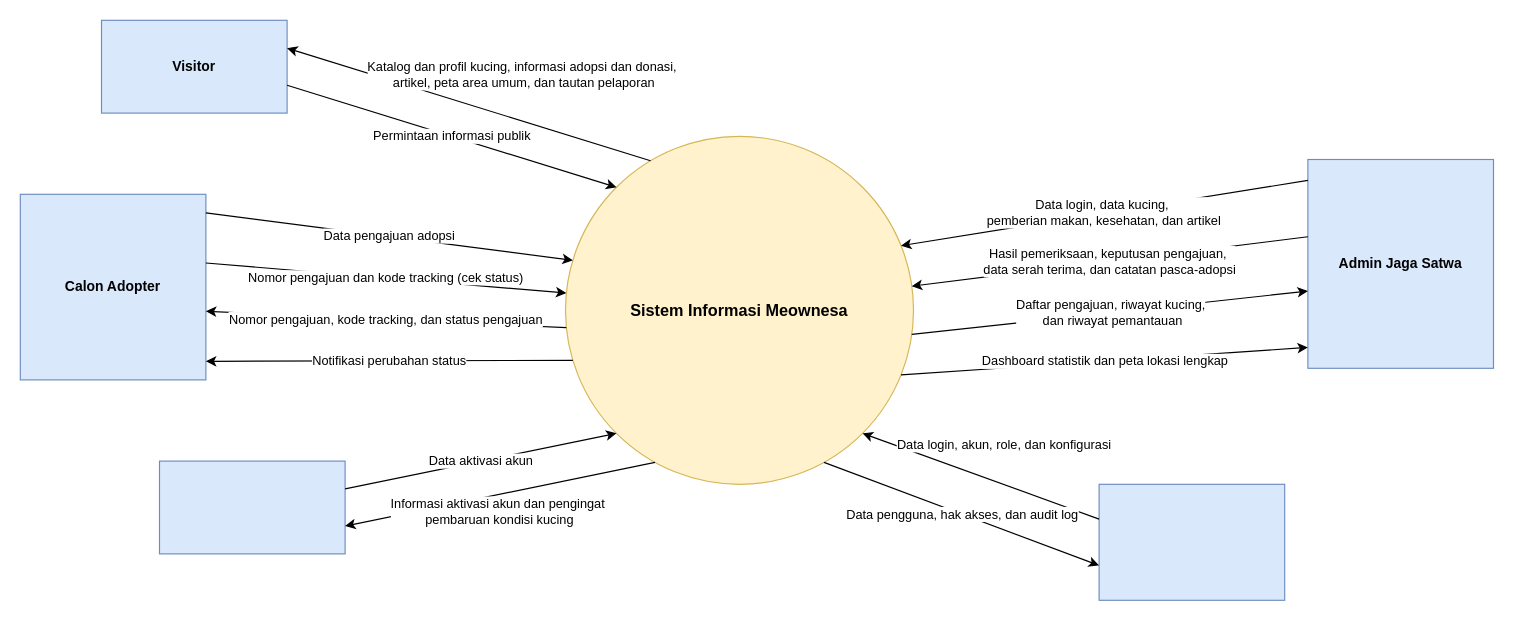
This 1514x621 diagram has some shape labels left out. Each missing label, with the centre of its shape:
"Adopter" goes at point (251, 507).
"Super Admin" goes at point (1191, 541).
